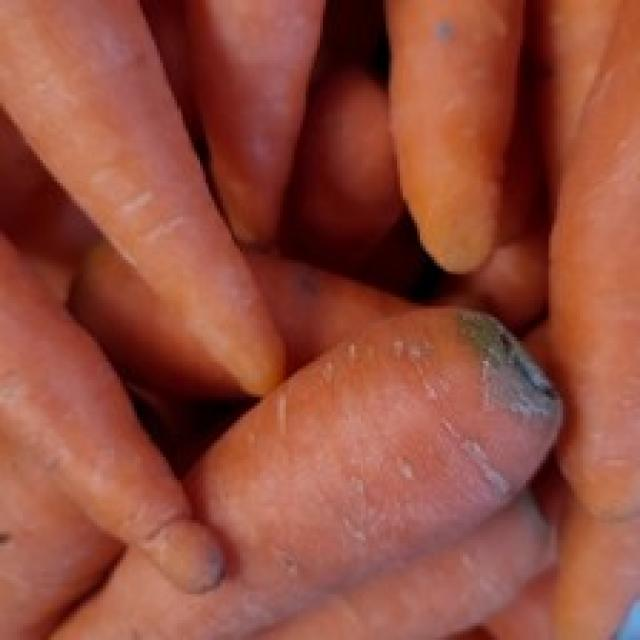Fresh_Carrot: (40, 304, 564, 640)
